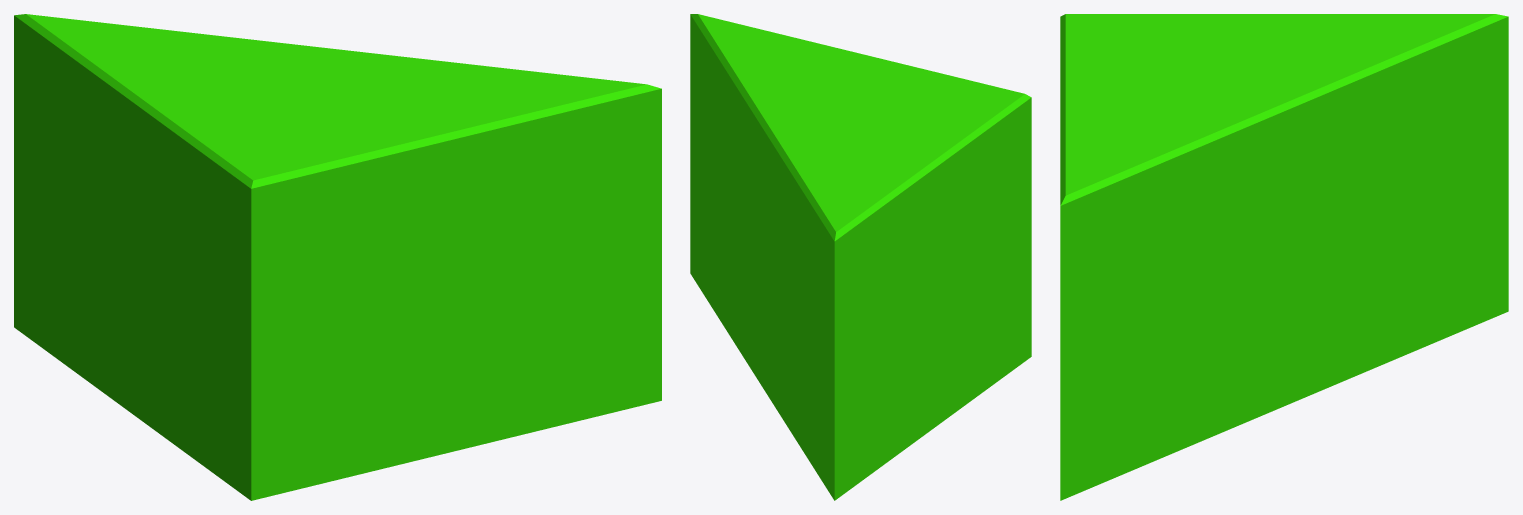
The model's file is triangle_4x3.fbx.
3 renders of one model, left to right at view 1: azimuth 30°, elevation 25°; view 2: azimuth 150°, elevation 25°; view 3: azimuth 270°, elevation 25°, orthographic. The views are drawn at different scales.
Parts seen in each view (by area): view 1: triangle_4x3; view 2: triangle_4x3; view 3: triangle_4x3.
Part boxes in pixels (x1,y1,x2,y2): triangle_4x3: (14,14,661,500); triangle_4x3: (690,14,1031,500); triangle_4x3: (1060,14,1508,500).
Size of the model in its own units: 420 by 310 by 420.
